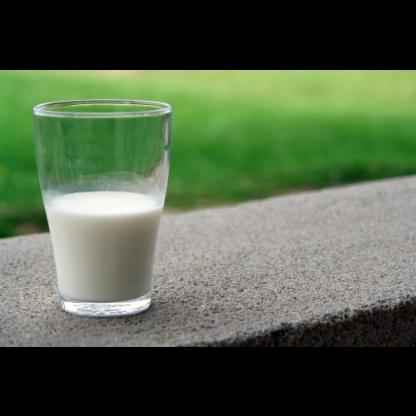milk: (44, 185, 166, 307)
